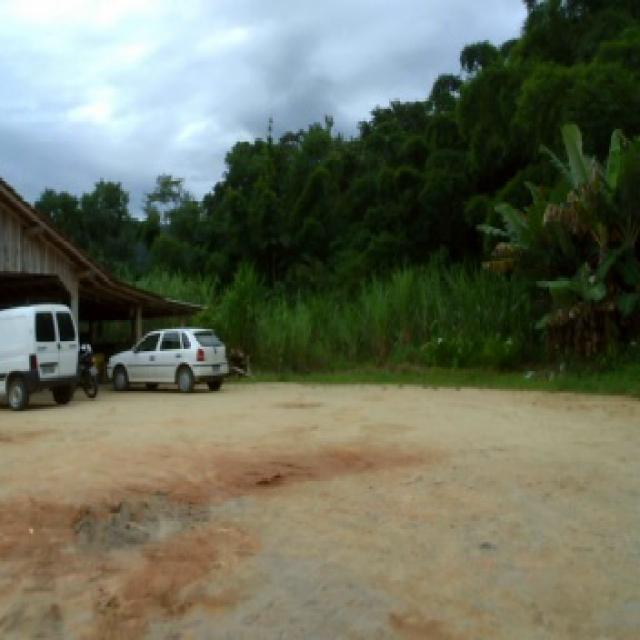Poth-hole: (65, 489, 211, 560), (250, 467, 286, 489)
